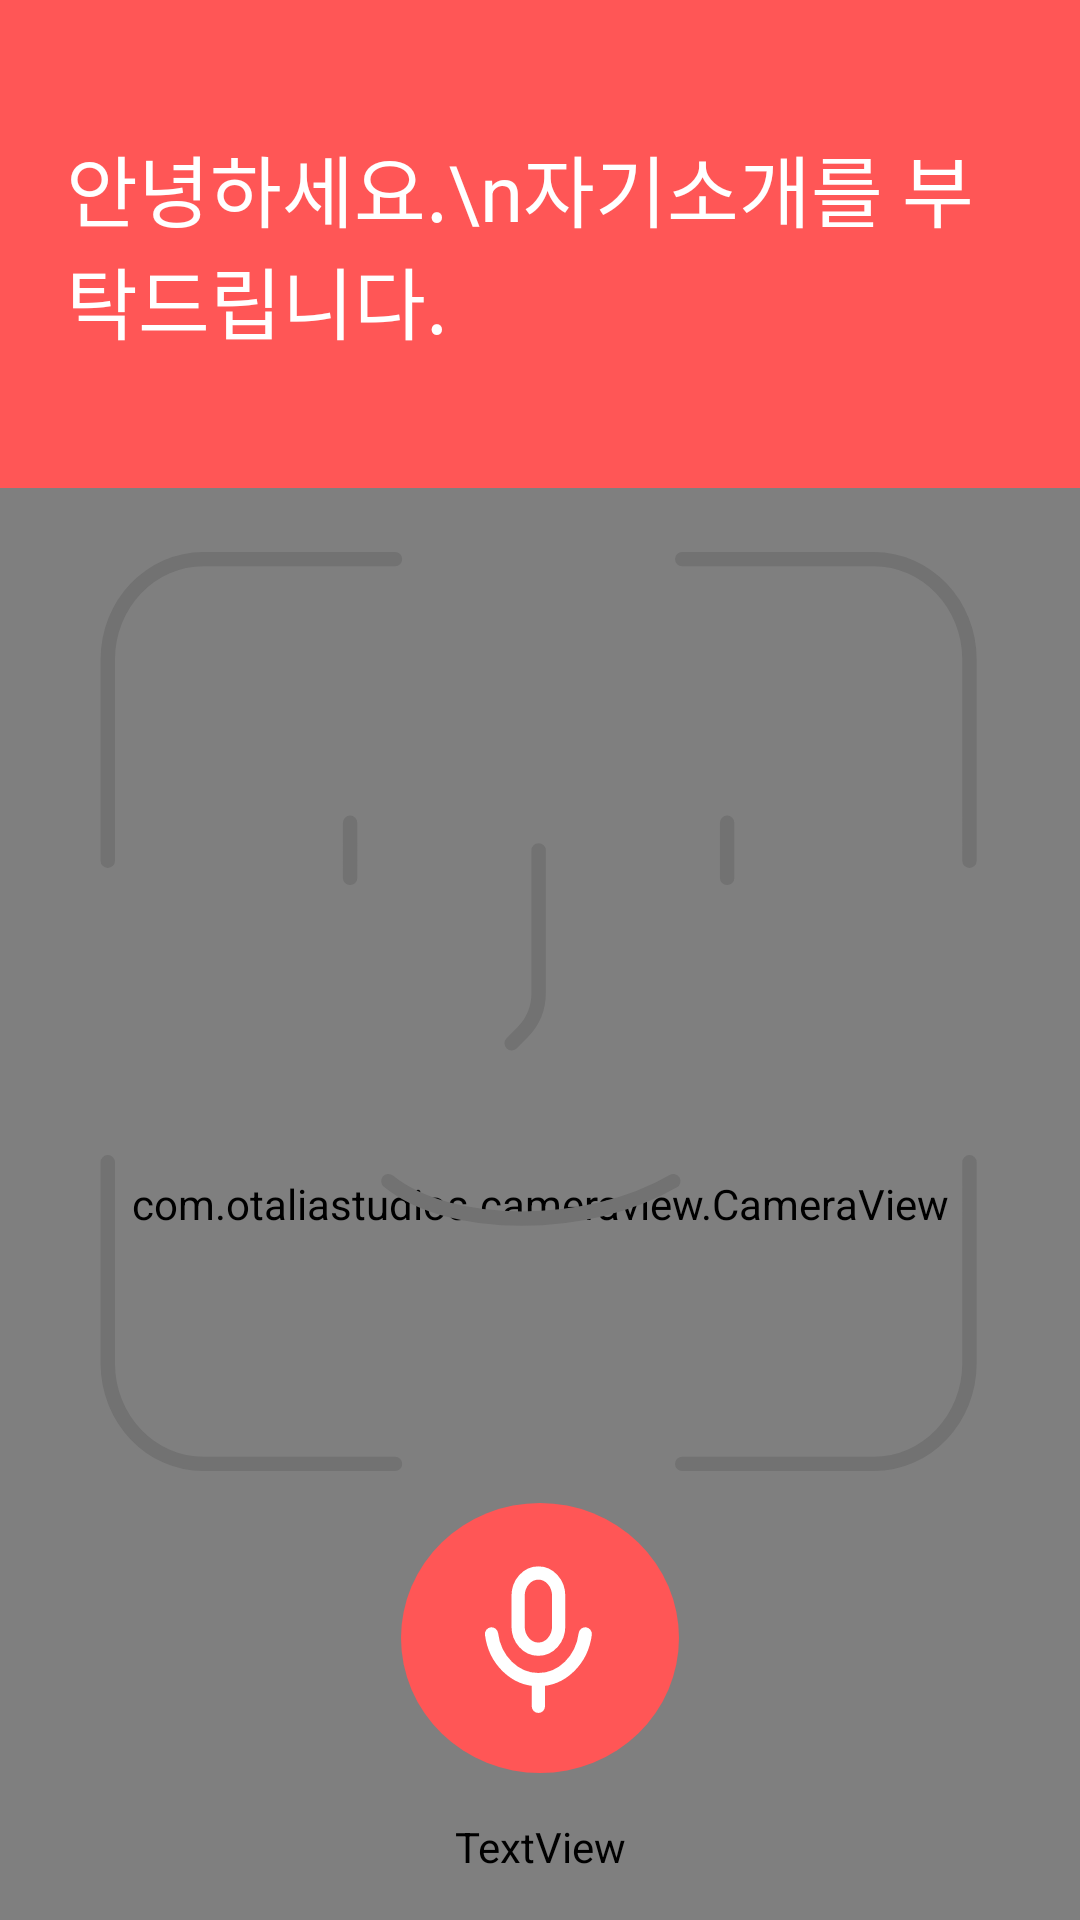

Where to tap for icons on this 1080x1920 app screen, as (x,y):
mic: (540,1638)
